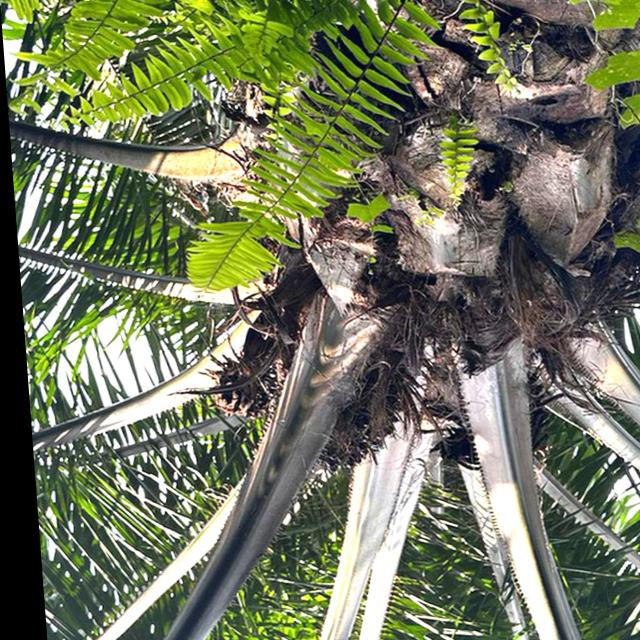almost: (299, 346, 407, 479)
